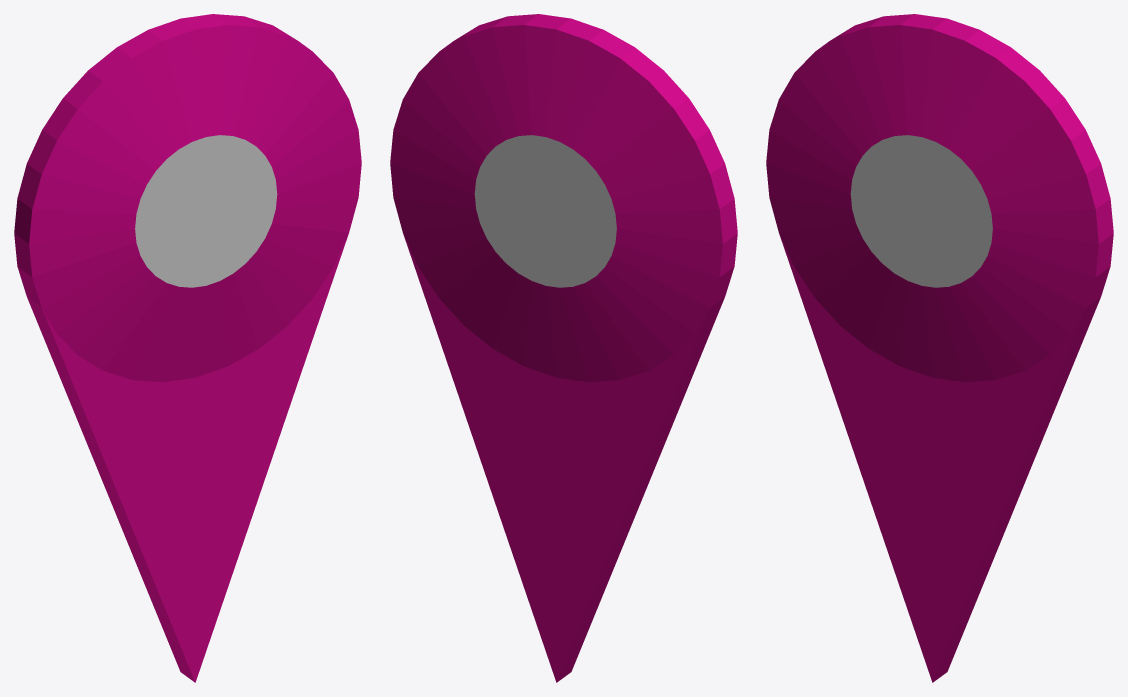
The model's file is marker.glb.
3 views of the same model, side by side, from view 1: azimuth 30°, elevation 25°; view 2: azimuth 150°, elevation 25°; view 3: azimuth 330°, elevation 25° (orthographic).
Visible parts, largest first — view 1: Cylinder; view 2: Cylinder; view 3: Cylinder.
Part boxes in pixels (<box>): Cylinder: <box>14,14,361,682</box>; Cylinder: <box>390,14,737,682</box>; Cylinder: <box>766,14,1113,682</box>.
Bounding box in the file's own units: 2 × 3.75 × 0.3784.
